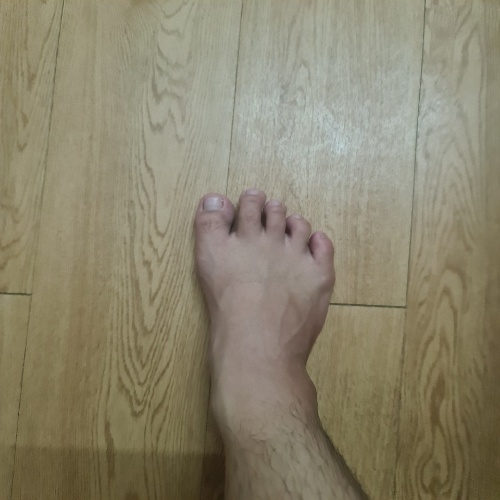3: (196, 188, 237, 246)
Top_Foot: (196, 189, 337, 456)
